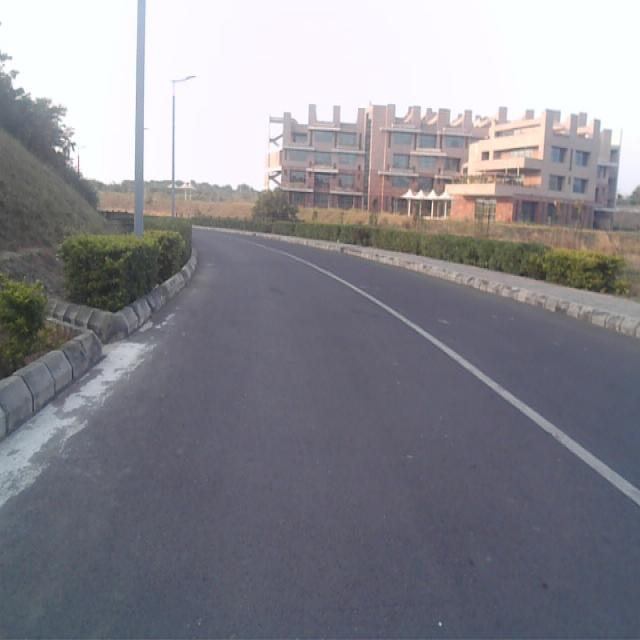lane: (0, 235, 640, 640)
